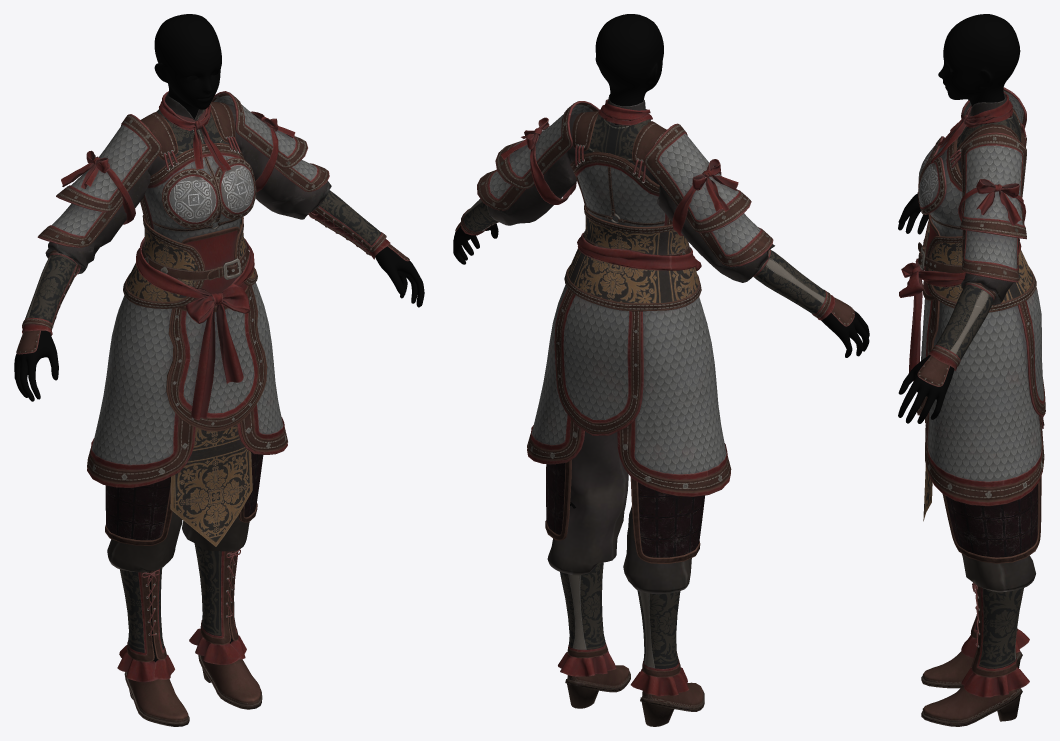
File: procedural_armor_2.0_test_5.glb
3 views of the same model, side by side, from view 1: azimuth 30°, elevation 25°; view 2: azimuth 150°, elevation 25°; view 3: azimuth 270°, elevation 25° (orthographic).
Visible parts, largest first — view 1: Side_skirt1_low, body_low, frskirt_low, knot_low, skirt_low, leg_low, Shoulder3_low, shirt_low, chest_low, Side_skirt3_low, Arm_low, shoes_low (+9 smaller); view 2: Side_skirt1_low, bkskirt_low, pants_low, Waist_cushion1_low, Shoulder3_low, body_low, Side_skirt3_low, leg_low, Body_piece_low, shirt_low, strap_low, Shoulder4_low (+6 smaller); view 3: Side_skirt1_low, body_low, Shoulder3_low, Side_skirt3_low, leg_low, shoes_low, knot_low, Waist_cushion1_low, Shoulder4_low, Arm_low, strap_low, bkskirt_low (+12 smaller).
Part boxes in pixels (x1=…): Side_skirt1_low: x1=87, y1=282, x2=287, y2=487; body_low: x1=14, y1=14, x2=424, y2=662; frskirt_low: x1=166, y1=285, x2=267, y2=431; knot_low: x1=136, y1=91, x2=254, y2=420; skirt_low: x1=170, y1=424, x2=252, y2=546; leg_low: x1=120, y1=543, x2=240, y2=661; Shoulder3_low: x1=56, y1=91, x2=307, y2=212; shirt_low: x1=45, y1=103, x2=331, y2=274; chest_low: x1=162, y1=157, x2=256, y2=228; Side_skirt3_low: x1=105, y1=452, x2=263, y2=545; Arm_low: x1=22, y1=190, x2=386, y2=329; shoes_low: x1=124, y1=655, x2=262, y2=726; Side_skirt1_low: x1=527, y1=284, x2=731, y2=496; bkskirt_low: x1=554, y1=288, x2=643, y2=435; pants_low: x1=547, y1=431, x2=691, y2=594; Waist_cushion1_low: x1=564, y1=205, x2=701, y2=311; Shoulder3_low: x1=495, y1=101, x2=751, y2=232; body_low: x1=453, y1=14, x2=869, y2=508; Side_skirt3_low: x1=545, y1=459, x2=705, y2=563; leg_low: x1=560, y1=562, x2=680, y2=677; Body_piece_low: x1=570, y1=151, x2=672, y2=226; shirt_low: x1=486, y1=113, x2=774, y2=282; strap_low: x1=500, y1=117, x2=738, y2=255; Shoulder4_low: x1=477, y1=169, x2=773, y2=266; Side_skirt1_low: x1=925, y1=302, x2=1044, y2=506; body_low: x1=898, y1=14, x2=1020, y2=423; Shoulder3_low: x1=960, y1=87, x2=1026, y2=239; Side_skirt3_low: x1=942, y1=476, x2=1041, y2=563; leg_low: x1=970, y1=566, x2=1023, y2=677; shoes_low: x1=921, y1=651, x2=1022, y2=726; knot_low: x1=899, y1=92, x2=1021, y2=381; Waist_cushion1_low: x1=924, y1=220, x2=1036, y2=312; Shoulder4_low: x1=962, y1=229, x2=1019, y2=282; Arm_low: x1=932, y1=282, x2=995, y2=367; strap_low: x1=918, y1=122, x2=1026, y2=272; bkskirt_low: x1=1017, y1=287, x2=1045, y2=417.
Bounding box in the file's own units: 1.12 × 1.8 × 0.3535.
3 materials, 3 textured.
